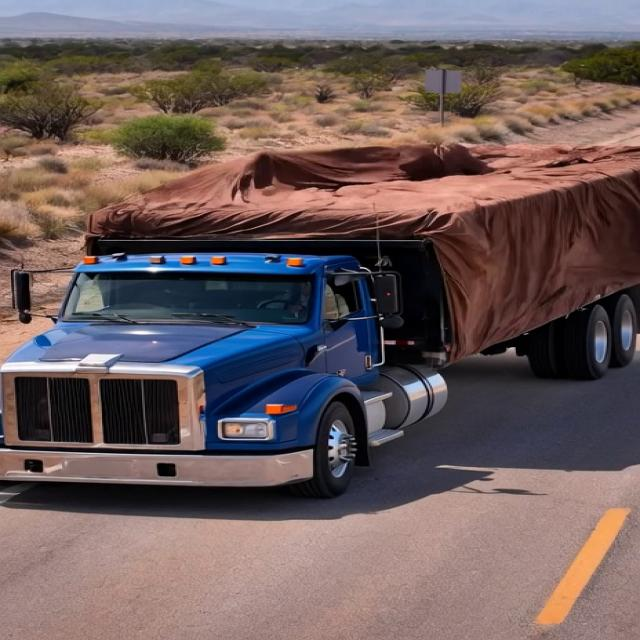trailer: (85, 153, 634, 233)
truck: (0, 130, 640, 507)
